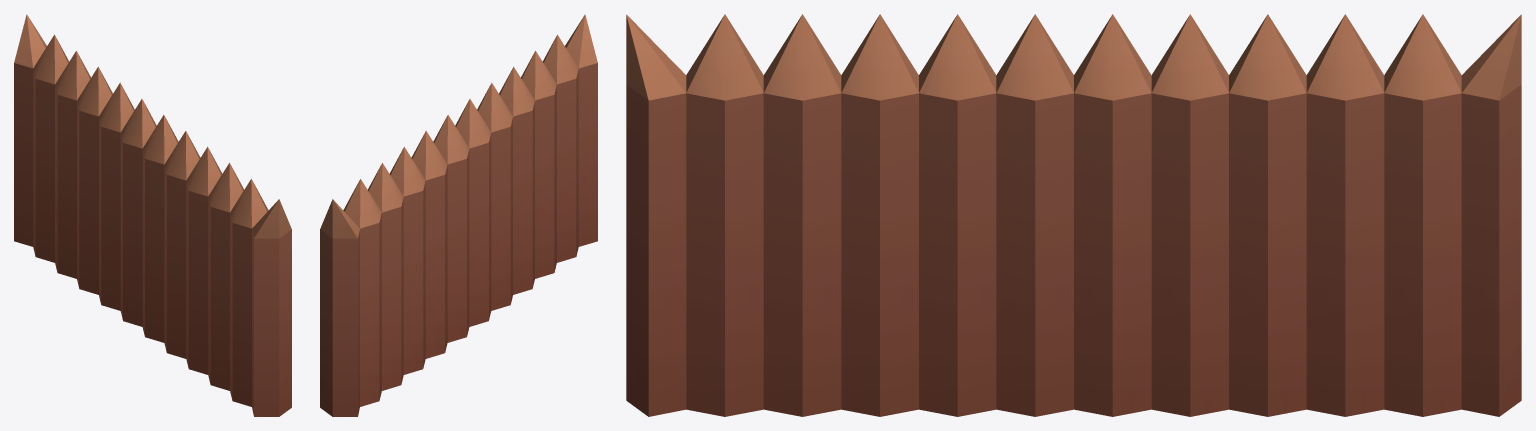
File: fence.glb
The picture shows the model from 3 angles, left to right: view 1: azimuth 30°, elevation 25°; view 2: azimuth 150°, elevation 25°; view 3: azimuth 270°, elevation 25°; orthographic projection. The views are drawn at different scales.
Visible parts, largest first — view 1: fence_wood_straight; view 2: fence_wood_straight; view 3: fence_wood_straight.
Part boxes in pixels (left/top/right/bottom): fence_wood_straight: left=14, top=14, right=291, bottom=416; fence_wood_straight: left=320, top=14, right=597, bottom=416; fence_wood_straight: left=626, top=14, right=1521, bottom=416.
Bounding box in the file's own units: 0.0999 × 0.5501 × 1.15.
Materials: 1 (1 with a texture image).
